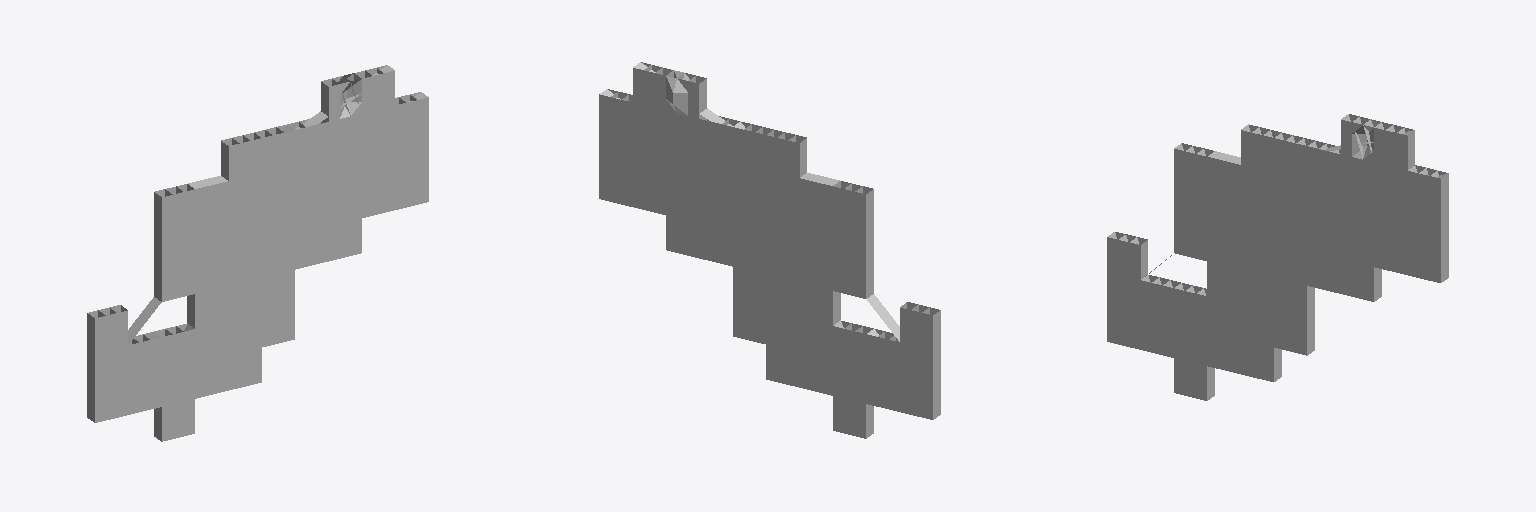
File: 3d_Feralas Pond 03.wlw.obj
The picture shows the model from 3 angles: view 1: azimuth 30°, elevation 25°; view 2: azimuth 150°, elevation 25°; view 3: azimuth 330°, elevation 25°; orthographic projection.
Bounding box in the file's own units: 250 × 225 × 15.27.